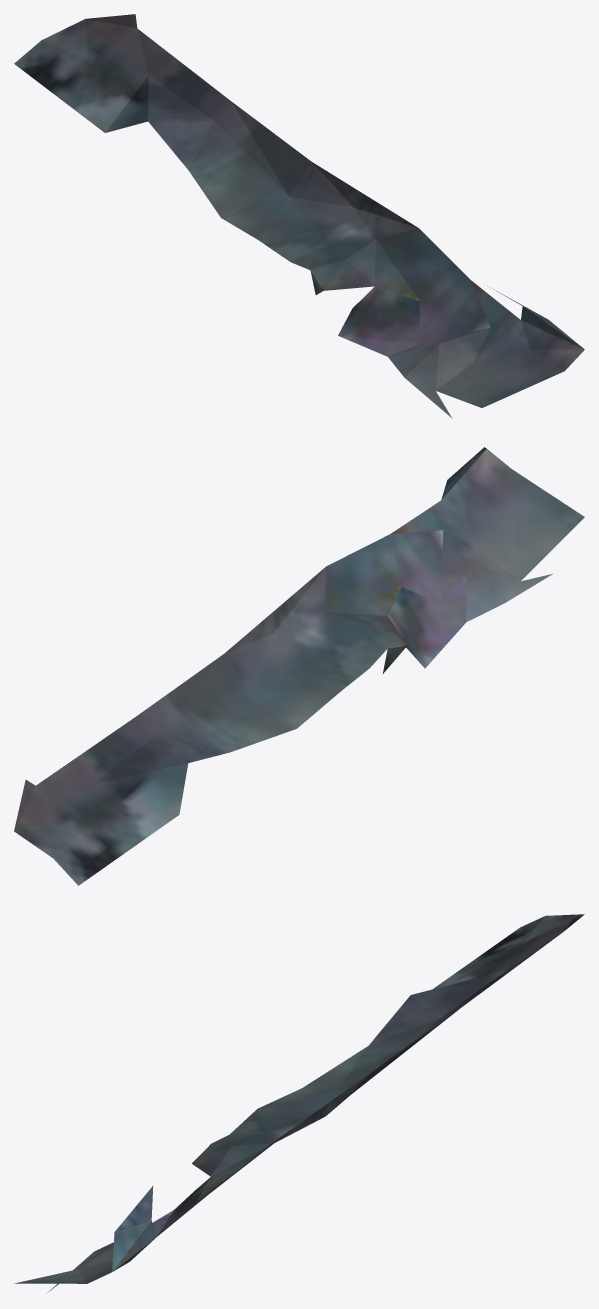
The model's file is meshes_1-dynamic - BLK2GO-3630355-Scan 080 10.obj.
3 renders of one model, top to bottom at view 1: azimuth 30°, elevation 25°; view 2: azimuth 150°, elevation 25°; view 3: azimuth 330°, elevation 25°, orthographic. The views are drawn at different scales.
Parts seen in each view (by area): view 1: 1-dynamic_-_BLK2GO-3630355-Scan_080_10_0; view 2: 1-dynamic_-_BLK2GO-3630355-Scan_080_10_0; view 3: 1-dynamic_-_BLK2GO-3630355-Scan_080_10_0.
Boxes of the visible parts, x1,y1,x2,y2 form: 1-dynamic_-_BLK2GO-3630355-Scan_080_10_0: [14, 14, 584, 418]; 1-dynamic_-_BLK2GO-3630355-Scan_080_10_0: [14, 447, 584, 885]; 1-dynamic_-_BLK2GO-3630355-Scan_080_10_0: [14, 914, 584, 1292].
Bounding box in the file's own units: 0.1892 × 0.1795 × 1.6.
1 material, 1 textured.
